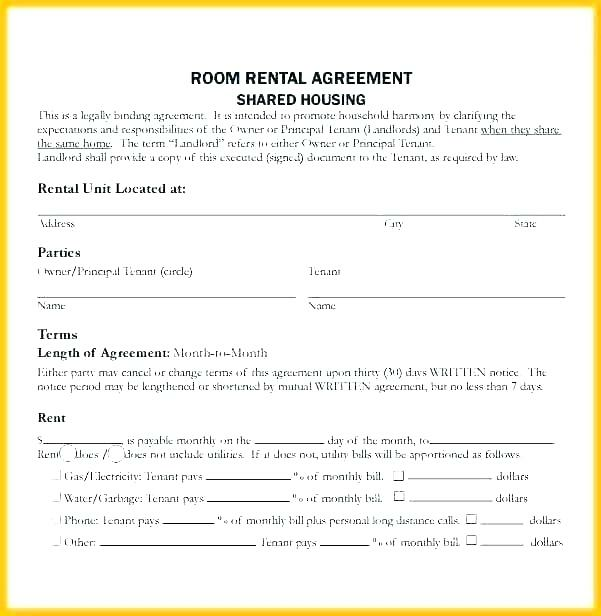checkbox: (53, 445, 80, 464), (104, 445, 128, 464), (392, 486, 407, 505), (464, 513, 480, 527), (391, 469, 406, 482), (465, 533, 479, 546)
textline: (34, 192, 573, 221), (305, 277, 569, 303), (36, 276, 299, 300), (431, 424, 555, 453), (98, 531, 256, 552), (41, 422, 123, 447), (405, 485, 494, 508), (406, 464, 494, 487), (203, 466, 292, 486), (206, 488, 289, 509), (252, 427, 329, 448), (317, 530, 371, 552), (159, 508, 214, 528), (480, 532, 528, 552), (480, 512, 528, 527)
